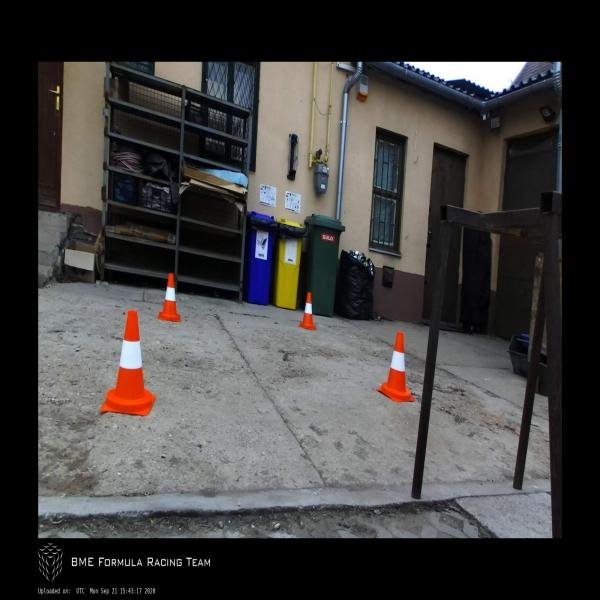orange_cone: (100, 310, 156, 416), (377, 331, 414, 402), (158, 273, 181, 322), (298, 292, 316, 331)
